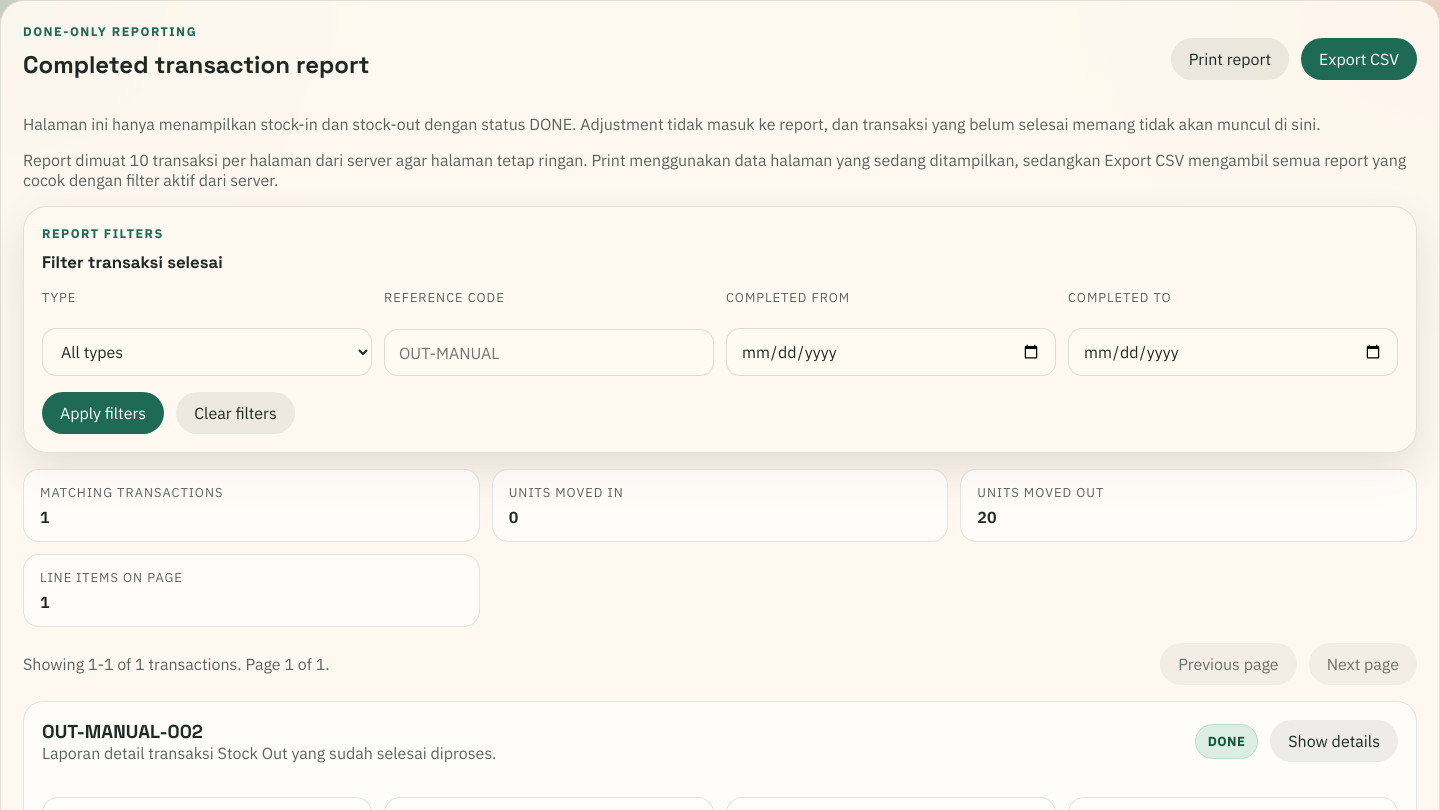
Test: ReportsPage › renders detailed report sections per completed transaction
The width and height of the screenshot is (1440, 810).
Expected: the heading "OUT-MANUAL-002" is shown, [42,720,203,743]
Expected: the text "Units moved out" is shown, [977,484,1104,501]
What coordinates should you click on to do the following:
click the button "Show details"
I would click on:
 (1334, 741)
Its box is [1270,720,1398,762].
(page scrolled)
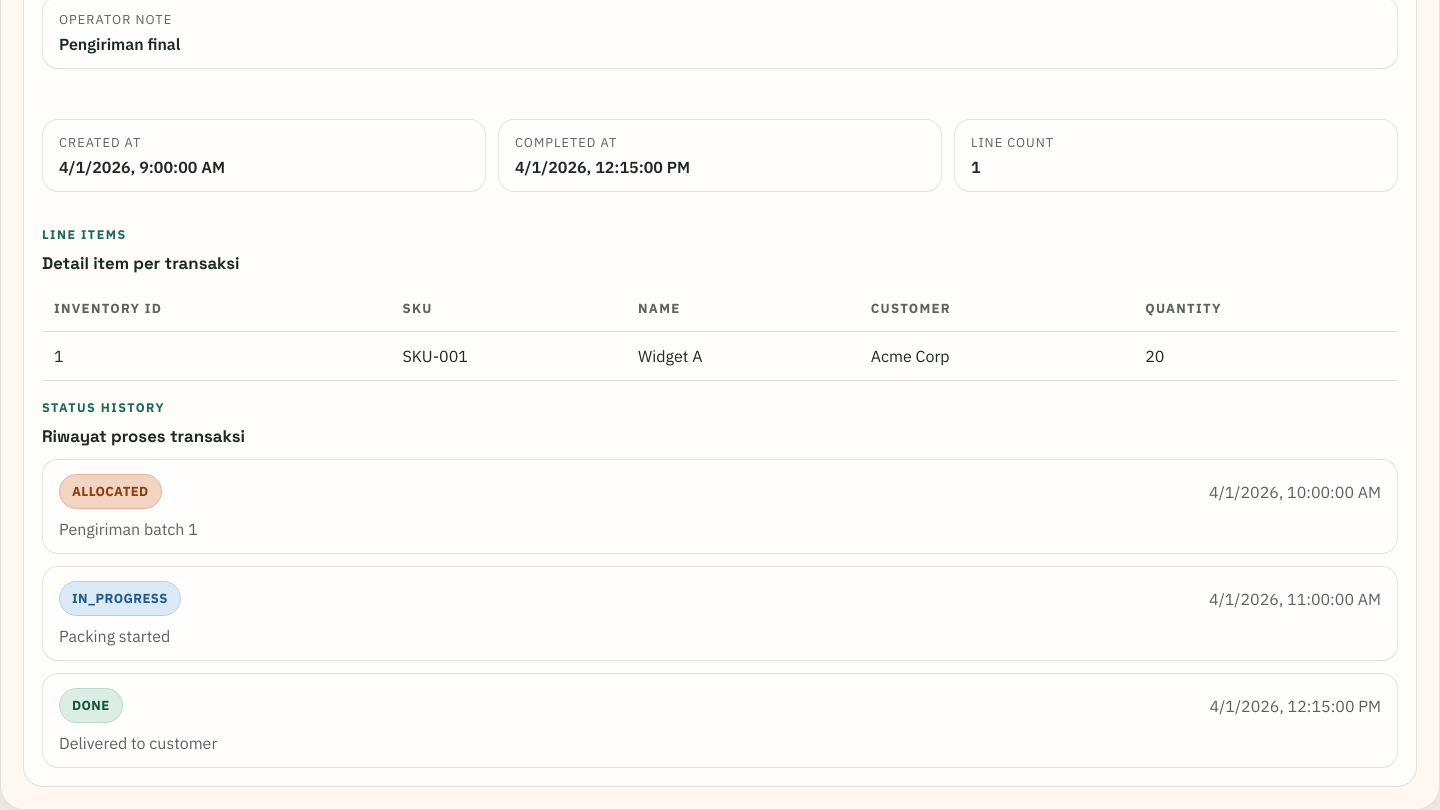
Now the heading "Detail item per transaksi" is shown, box [42,252,240,274]
Now the heading "Riwayat proses transaksi" is shown, box [42,425,245,447]
Now the text "SKU-001" is shown, box [390,332,626,380]
